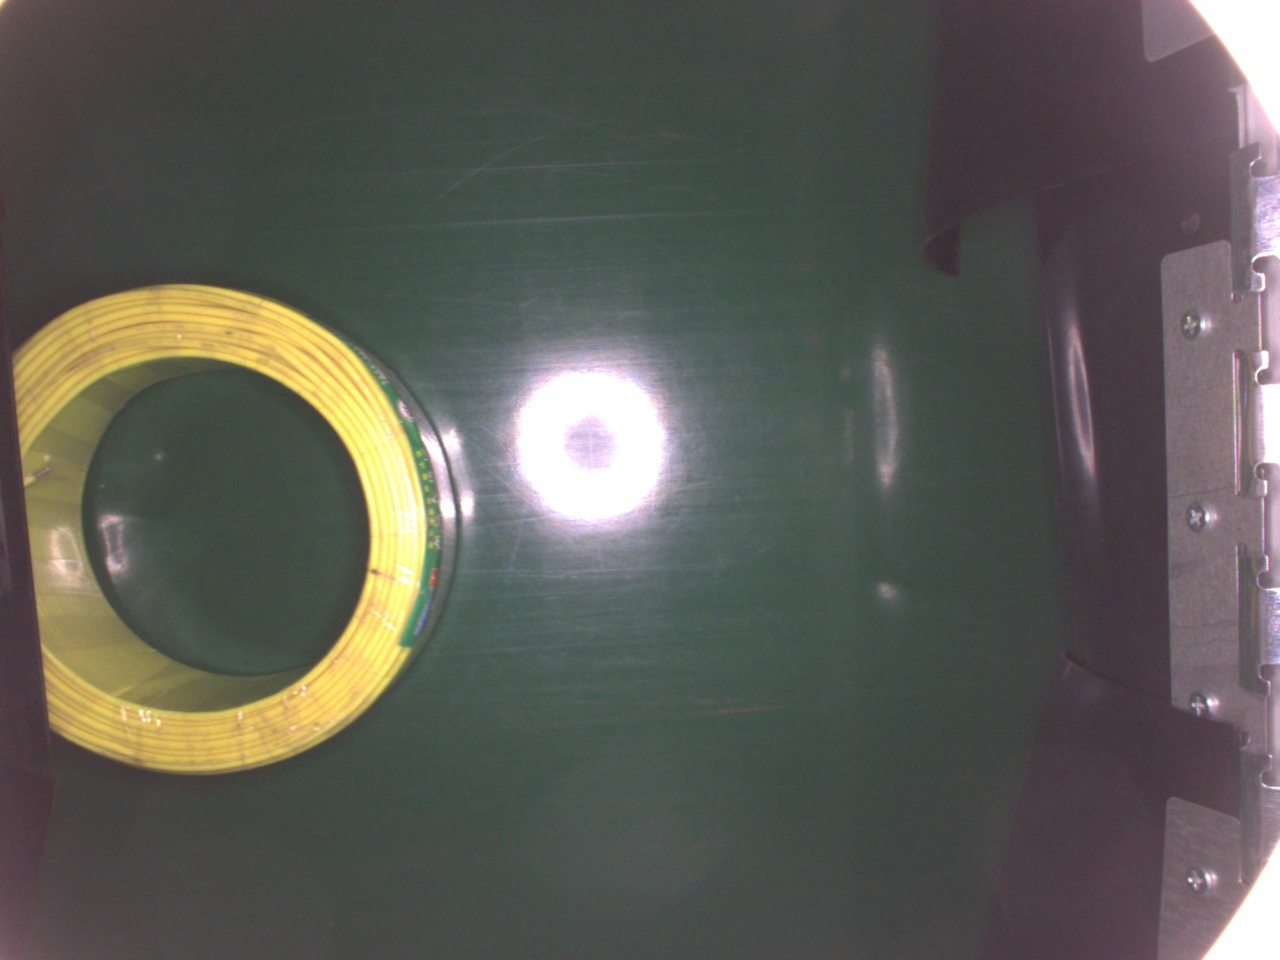yellow: (14, 279, 456, 778)
